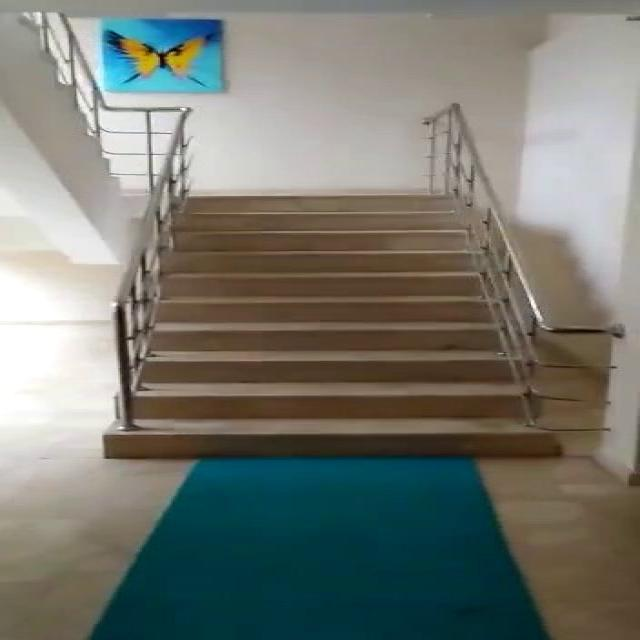stair: (108, 178, 576, 464)
